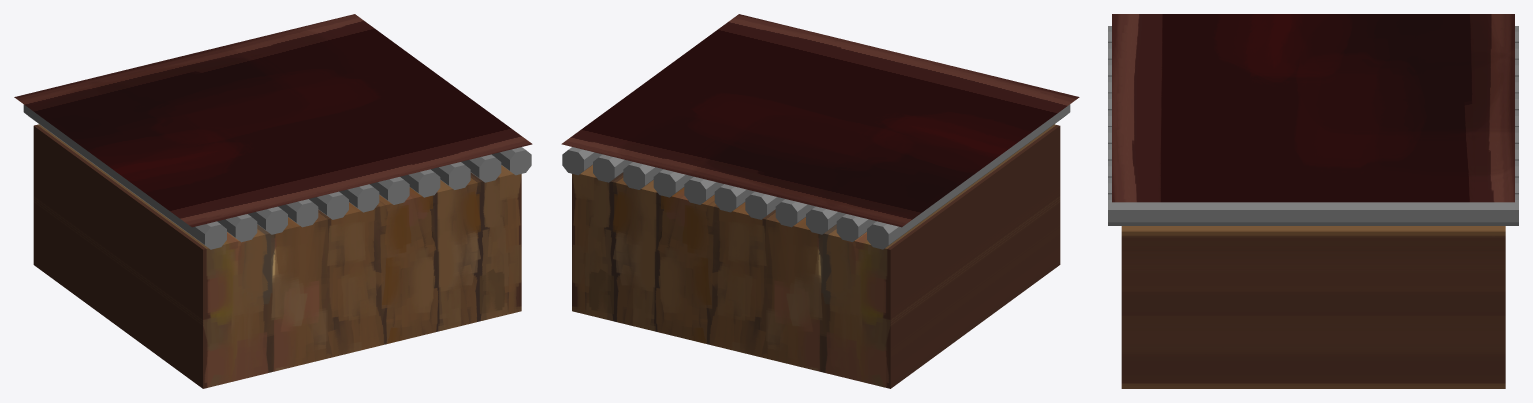
File: Track_Straight3.fbx
3 views of the same model, side by side, from view 1: azimuth 30°, elevation 25°; view 2: azimuth 150°, elevation 25°; view 3: azimuth 270°, elevation 25° (orthographic). The views are drawn at different scales.
Visible parts, largest first — view 1: Body.001, Belt.001; view 2: Body.001, Belt.001; view 3: Belt.001, Body.001.
Part boxes in pixels (left/top/right/bottom): Body.001: left=23, top=104, right=531, bottom=388; Belt.001: left=14, top=14, right=532, bottom=227; Body.001: left=562, top=104, right=1070, bottom=388; Belt.001: left=561, top=14, right=1079, bottom=227; Belt.001: left=1112, top=14, right=1514, bottom=202; Body.001: left=1108, top=26, right=1518, bottom=388.
Bounding box in the file's own units: 728 × 344 × 671.
3 materials, 2 textured.
